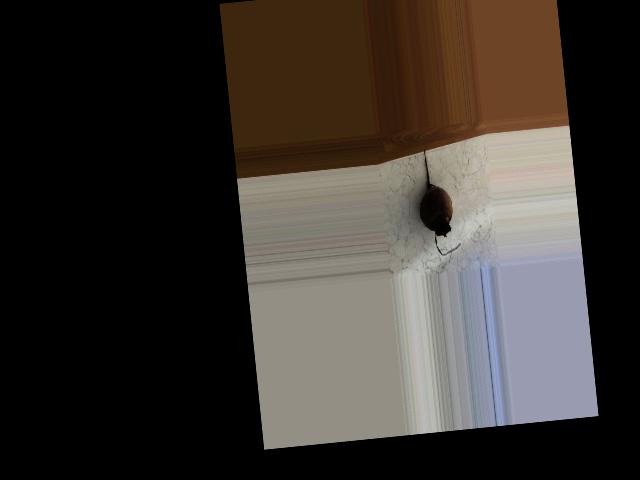beet: (413, 145, 461, 256)
